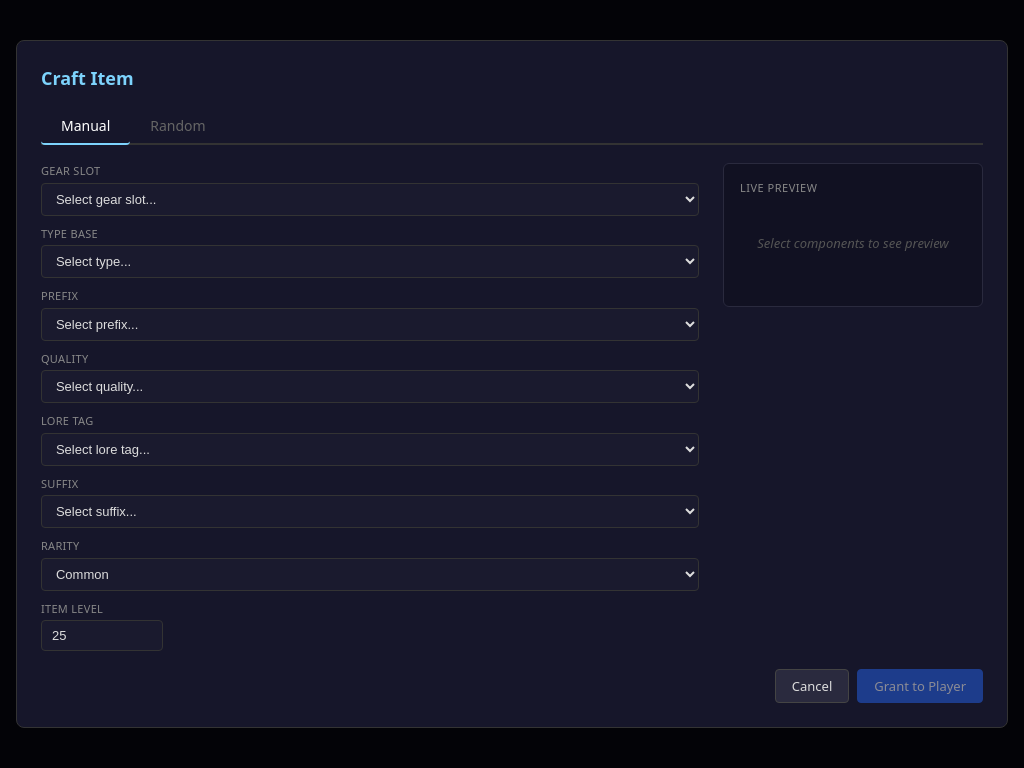
Test: ItemCraftModal › random mode shows optional constraint dropdowns
What coordinates should you click on to do the following:
click the button "Random"
I would click on:
 (178, 126)
Its box is [130,108,226,145].
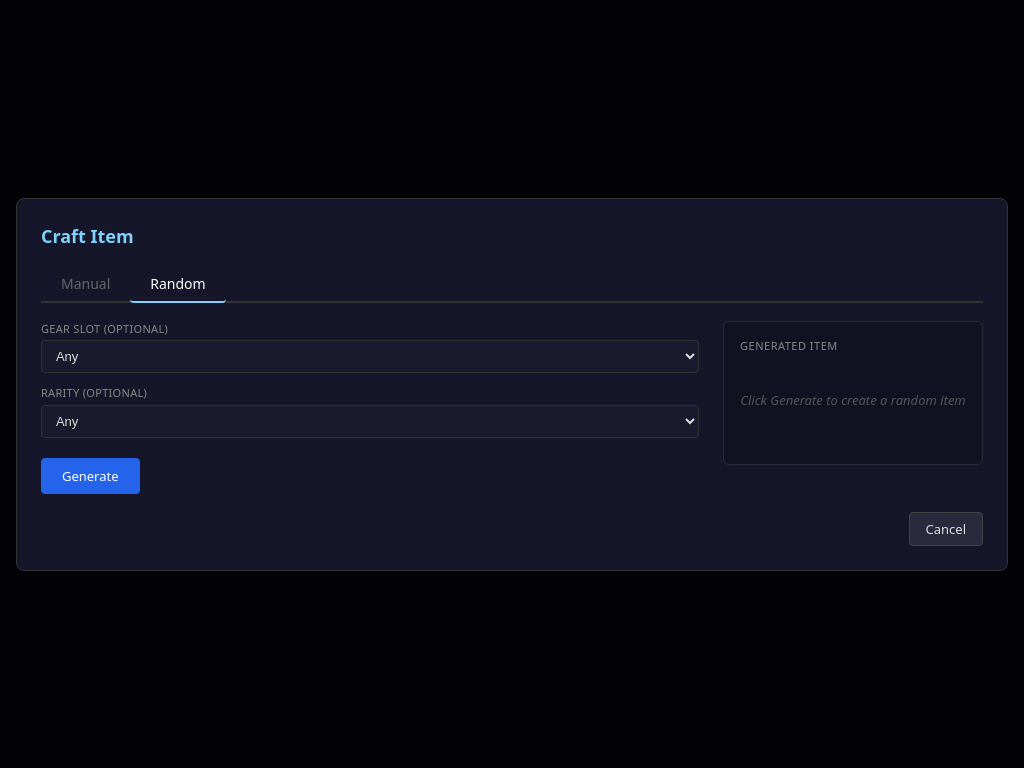
expect the text "Gear Slot (optional)" is shown: met, box [41,320,168,336]
expect the text "Rarity (optional)" is shown: met, box [41,385,147,400]
expect the button "Generate" is shown: met, box [41,458,140,494]
